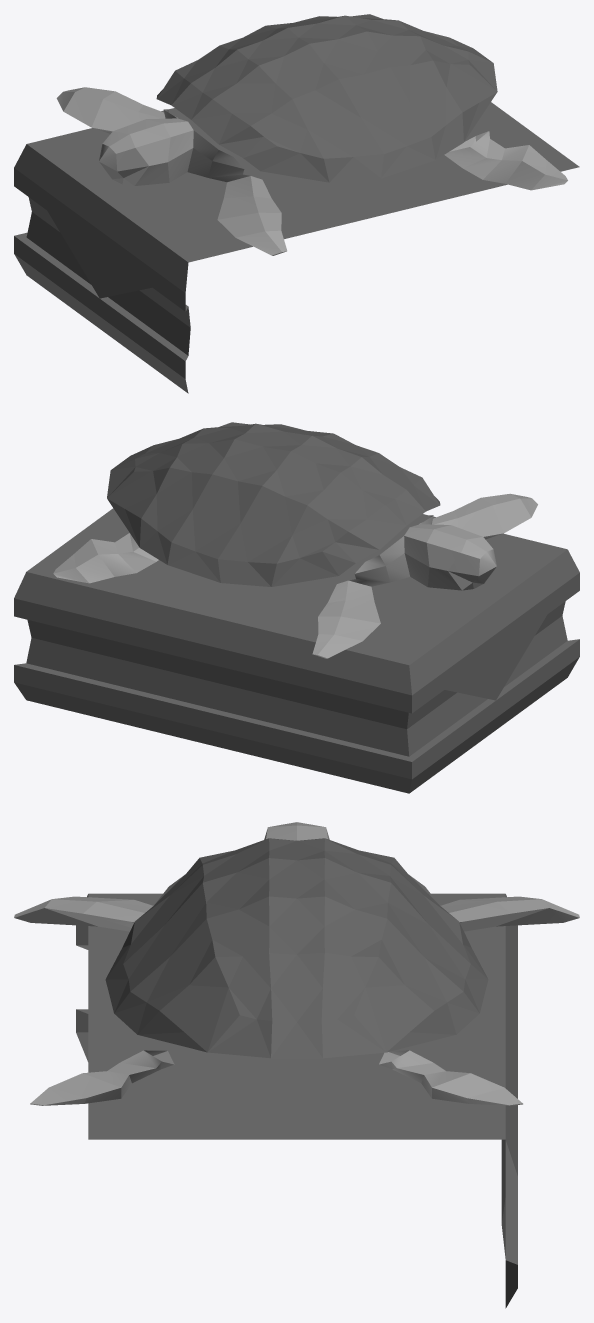
The model's file is Turtle.fbx.
The picture shows the model from 3 angles, top to bottom: view 1: azimuth 30°, elevation 25°; view 2: azimuth 150°, elevation 25°; view 3: azimuth 270°, elevation 25°; orthographic projection. The views are drawn at different scales.
Visible parts, largest first — view 1: Turtle; view 2: Turtle; view 3: Turtle.
Boxes of the visible parts, bbox=[...] form: Turtle: bbox=[14, 14, 579, 393]; Turtle: bbox=[14, 422, 579, 793]; Turtle: bbox=[14, 822, 579, 1308].
Bounding box in the file's own units: 306 × 180 × 285.
